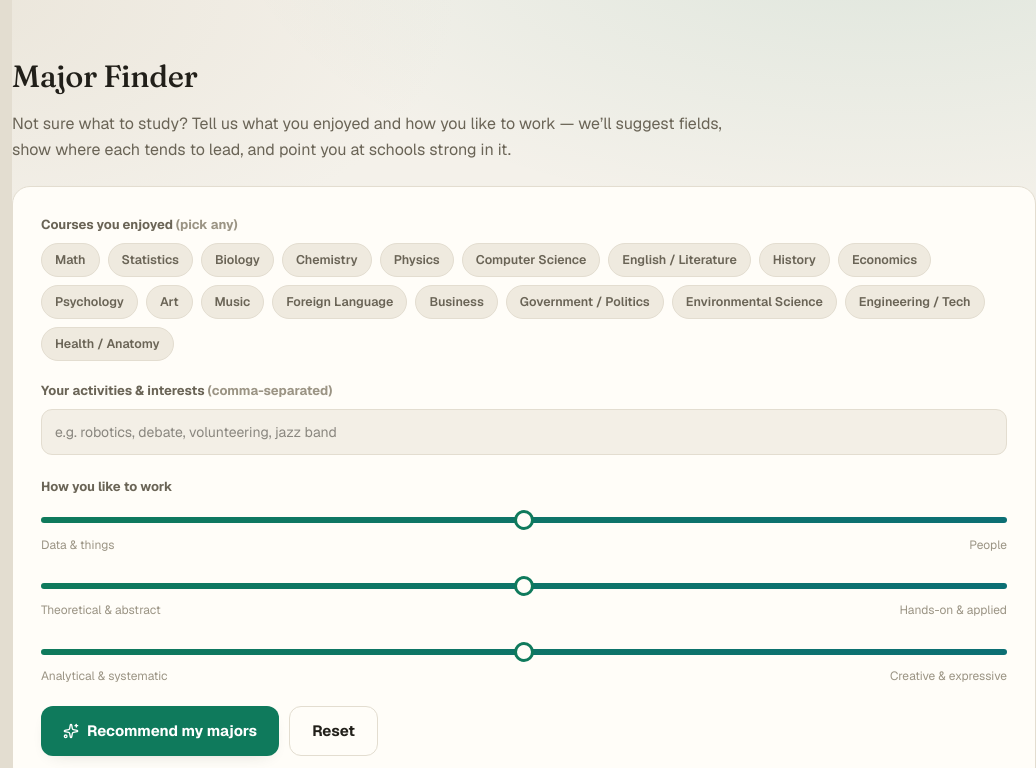
Test: MajorFinder — federal degree data › surfaces a school that teaches the field without listing it as a strength
Click the button "Recommend my majors": {"x": 160, "y": 732} [41,706,279,756]
(page scrolled)
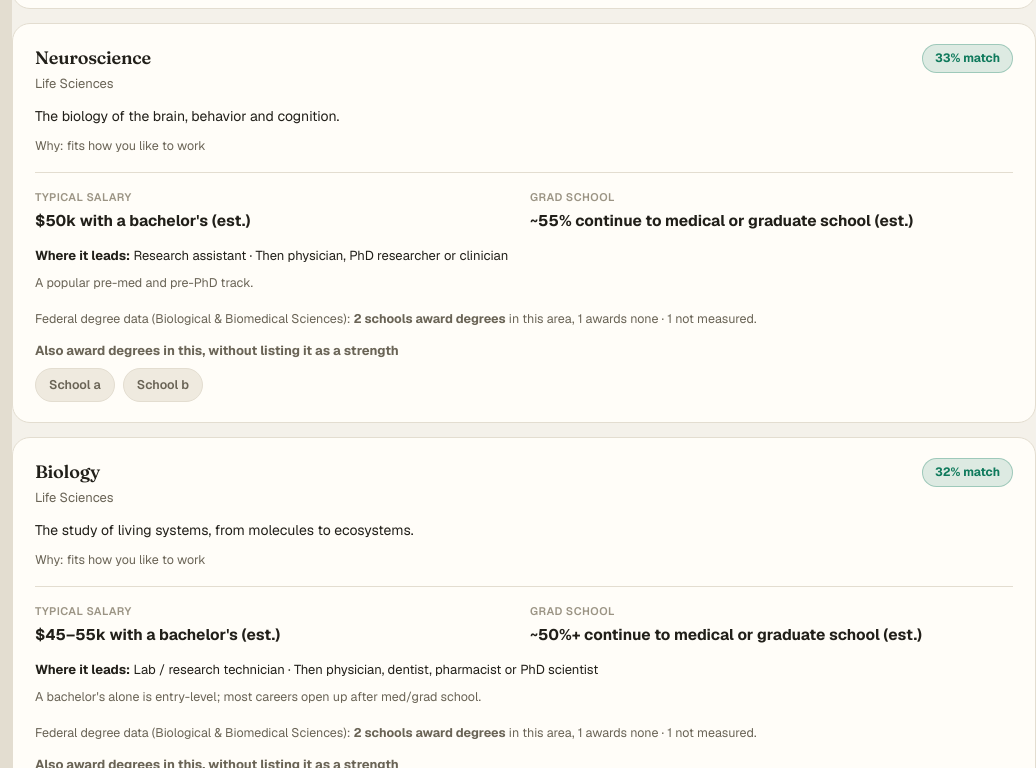
Check: the button "School b" is shown, box [123,368,203,402]
